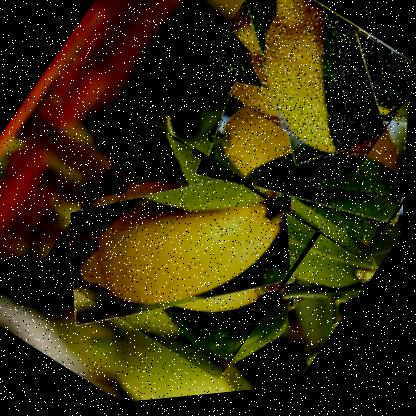lemon: (35, 104, 331, 398), (185, 35, 412, 282), (187, 0, 415, 194)
